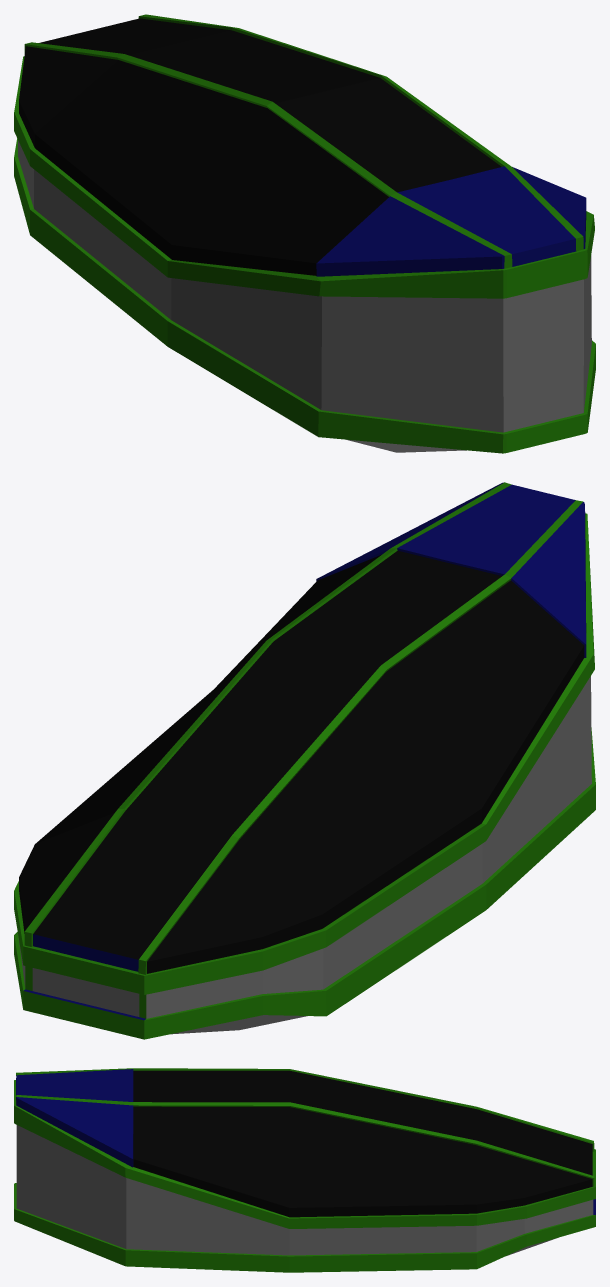
File: ARC_ControlSystem_Part_Wipeout.fbx
3 views of the same model, one above another, from view 1: azimuth 30°, elevation 25°; view 2: azimuth 150°, elevation 25°; view 3: azimuth 270°, elevation 25° (orthographic). The views are drawn at different scales.
Visible parts, largest first — view 1: ARC_ControlSystem_Ship; view 2: ARC_ControlSystem_Ship; view 3: ARC_ControlSystem_Ship.
Boxes of the visible parts, bbox=[...] form: ARC_ControlSystem_Ship: bbox=[14, 14, 595, 453]; ARC_ControlSystem_Ship: bbox=[14, 482, 595, 1039]; ARC_ControlSystem_Ship: bbox=[14, 1068, 595, 1272].
Bounding box in the file's own units: 2.06 × 1.58 × 5.17.
